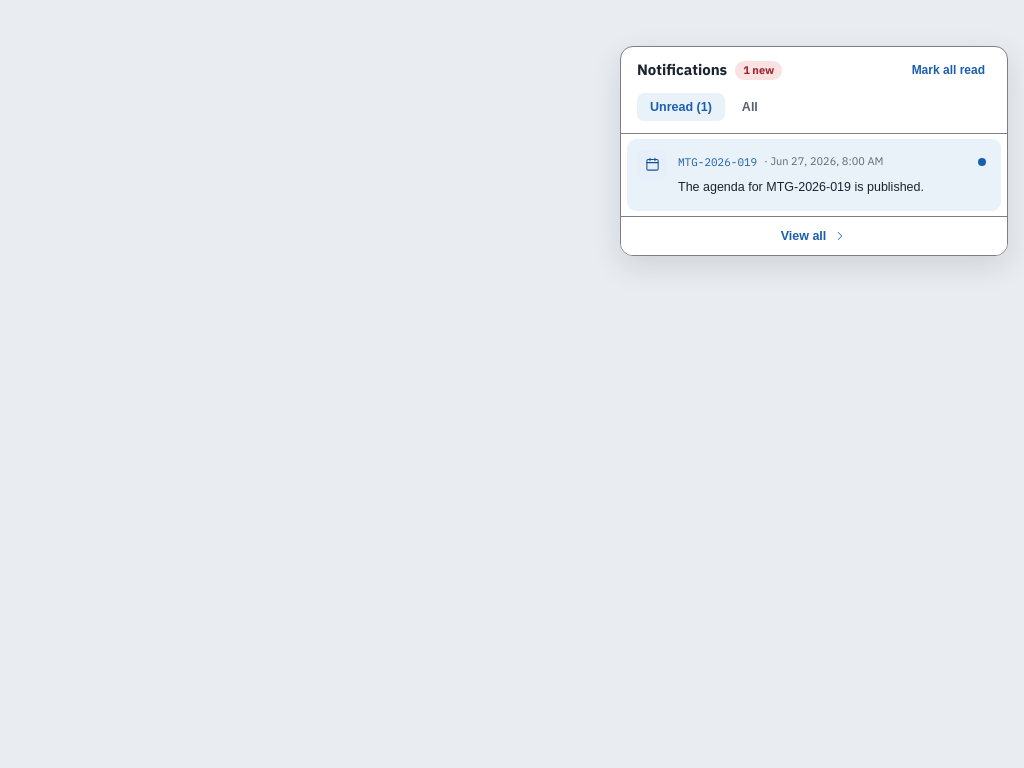
NotificationCenter (P6b — ACMP.dc.html L92–131) › the All tab reveals read items too
The width and height of the screenshot is (1024, 768).
Click the button "All": (750, 106) [729,92,771,120]
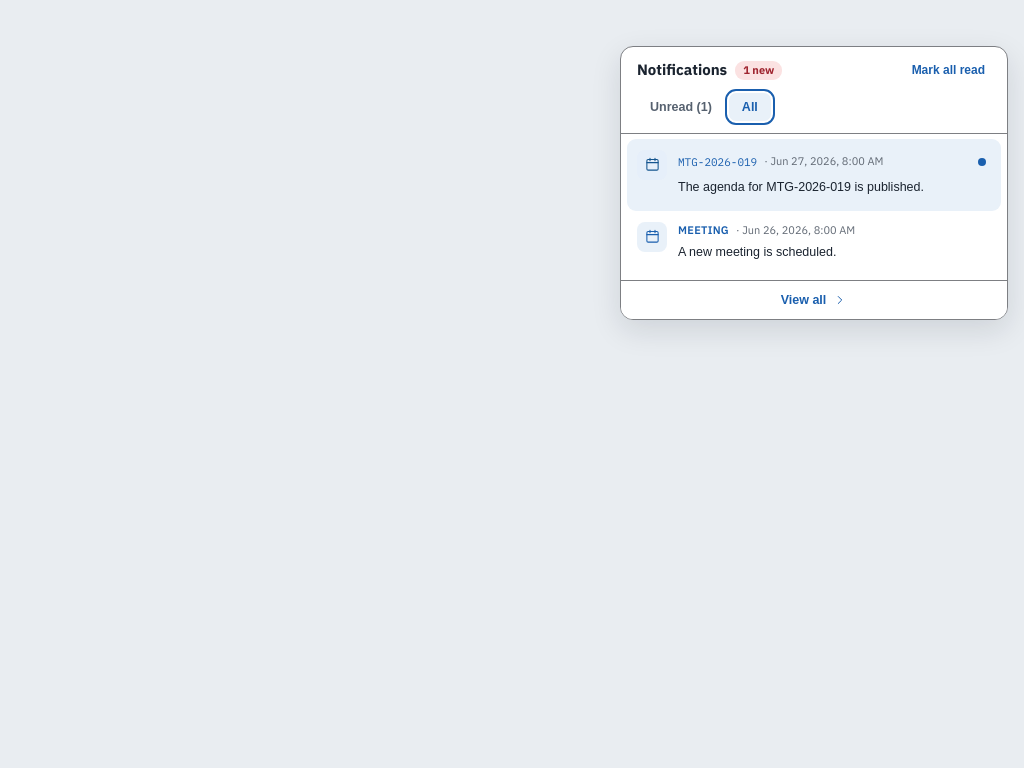
Expected: the button "A new meeting is scheduled." is shown, [678,240,991,264]
